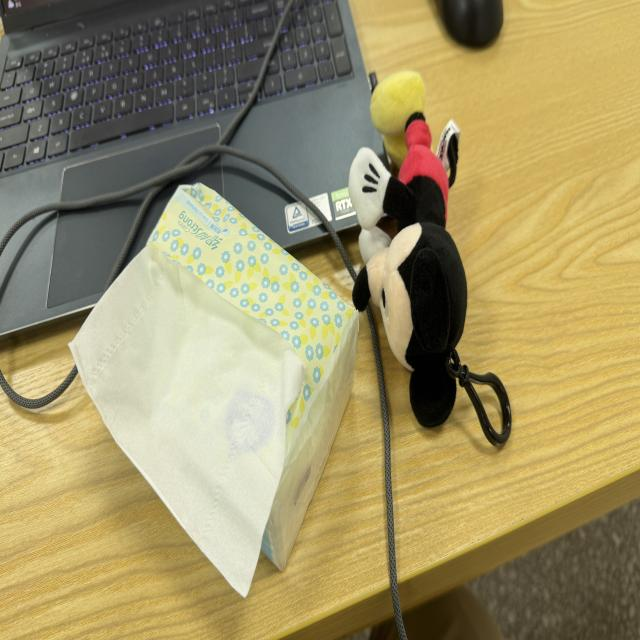mickey: (349, 73, 467, 427)
tissue: (71, 185, 358, 595), (70, 246, 305, 596)
